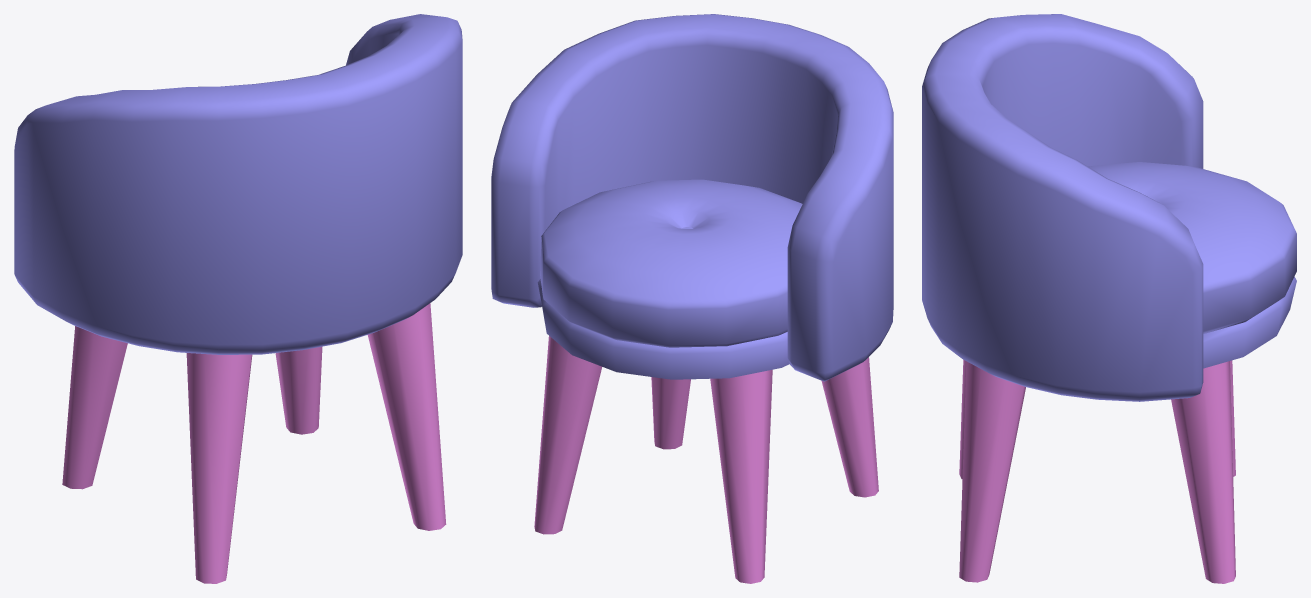
Rendered from Chair_Comfy_01.glb.
The picture shows the model from 3 angles, left to right: view 1: azimuth 30°, elevation 25°; view 2: azimuth 150°, elevation 25°; view 3: azimuth 270°, elevation 25°; orthographic projection. The views are drawn at different scales.
Parts seen in each view (by area): view 1: Chair_Comfy; view 2: Chair_Comfy; view 3: Chair_Comfy.
Boxes of the visible parts, <box> form: Chair_Comfy: <box>14,14,462,583</box>; Chair_Comfy: <box>491,14,893,583</box>; Chair_Comfy: <box>922,14,1296,583</box>.
Size of the model in its own units: 0.8126 by 0.9301 by 0.6996.
1 material, 1 textured.
